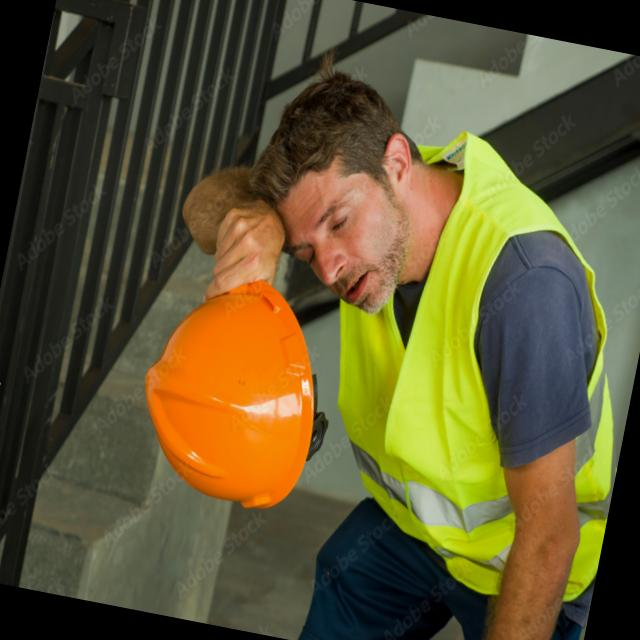no-goggles: (286, 116, 406, 282)
no-helmet: (247, 49, 391, 221)
vest: (324, 139, 640, 605)
